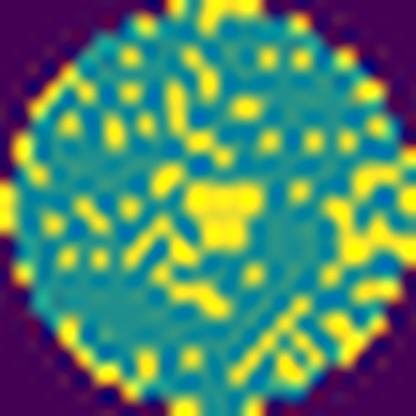Center: (182, 178, 270, 255)
